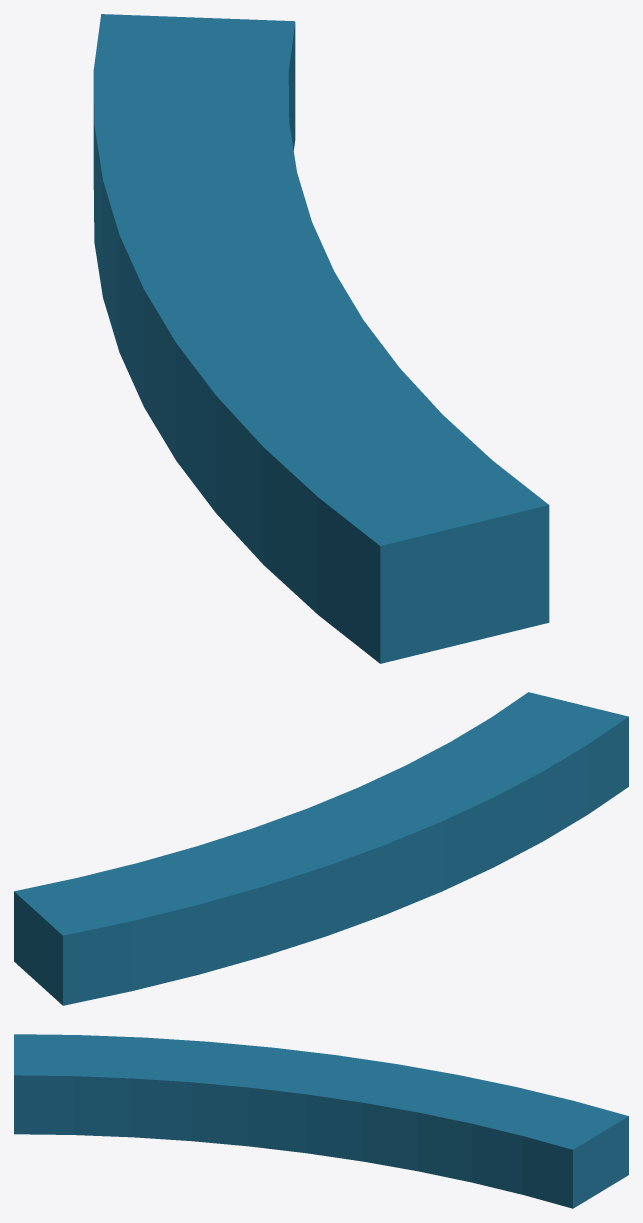
The model's file is 33Arch35.obj.
3 views of the same model, one above another, from view 1: azimuth 30°, elevation 25°; view 2: azimuth 150°, elevation 25°; view 3: azimuth 270°, elevation 25° (orthographic). The views are drawn at different scales.
Parts seen in each view (by area): view 1: 33Arch35; view 2: 33Arch35; view 3: 33Arch35.
Boxes of the visible parts, <box> form: 33Arch35: <box>93,14,549,663</box>; 33Arch35: <box>14,692,628,1005</box>; 33Arch35: <box>14,1034,628,1208</box>.
Size of the model in its own units: 0.8425 by 0.2 by 1.89.
